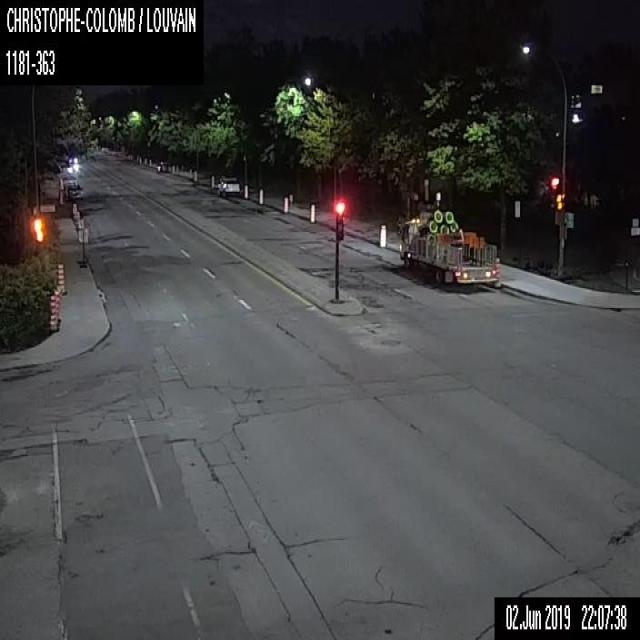construction: (77, 227, 88, 263), (49, 293, 59, 331), (57, 261, 67, 293), (53, 289, 61, 321), (54, 294, 60, 326), (379, 223, 386, 247), (309, 202, 316, 224), (282, 195, 289, 213), (71, 201, 77, 219), (74, 210, 80, 227), (258, 187, 263, 204), (243, 183, 248, 199), (58, 189, 63, 205), (193, 168, 198, 182), (188, 166, 192, 180), (210, 174, 214, 188), (78, 218, 84, 226), (171, 164, 175, 174)
vehicle: (397, 208, 501, 287), (217, 174, 240, 198), (67, 183, 82, 199), (155, 160, 168, 172)
